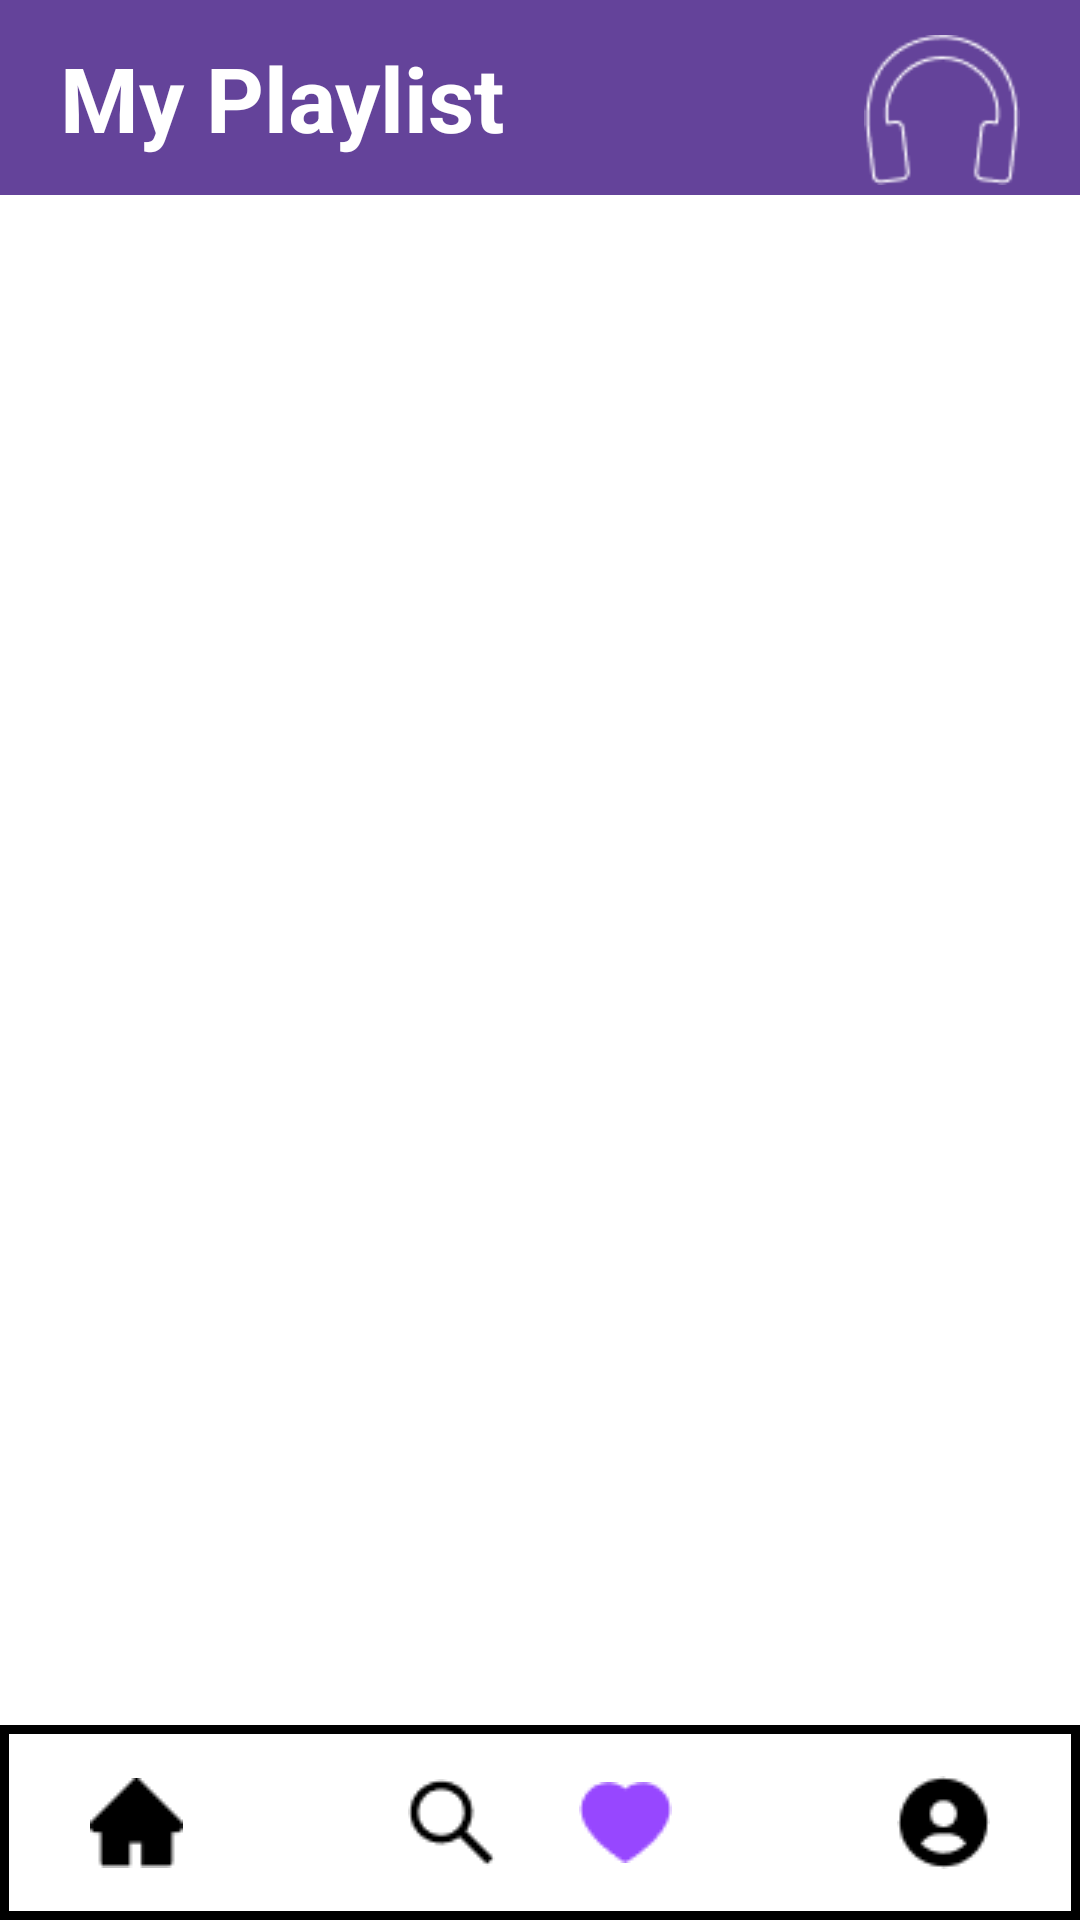

Screen size 1080px×1920px. Icon name, then its box in pixels as (x1, y1, x2, y2):
account: (897, 1776, 990, 1869)
search: (408, 1779, 493, 1864)
tai nghe: (864, 35, 1018, 185)
trang chu: (90, 1778, 183, 1868)
tym: (579, 1782, 672, 1863)
